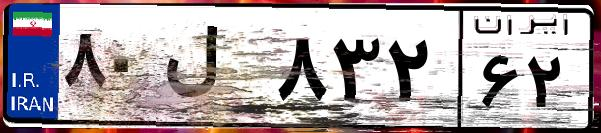0: (110, 28, 158, 98)
2: (385, 28, 445, 110), (525, 38, 570, 115)
3: (330, 28, 385, 110)
6: (475, 38, 525, 113)
8: (270, 28, 330, 110), (57, 26, 110, 100)
ل: (158, 20, 270, 120)
